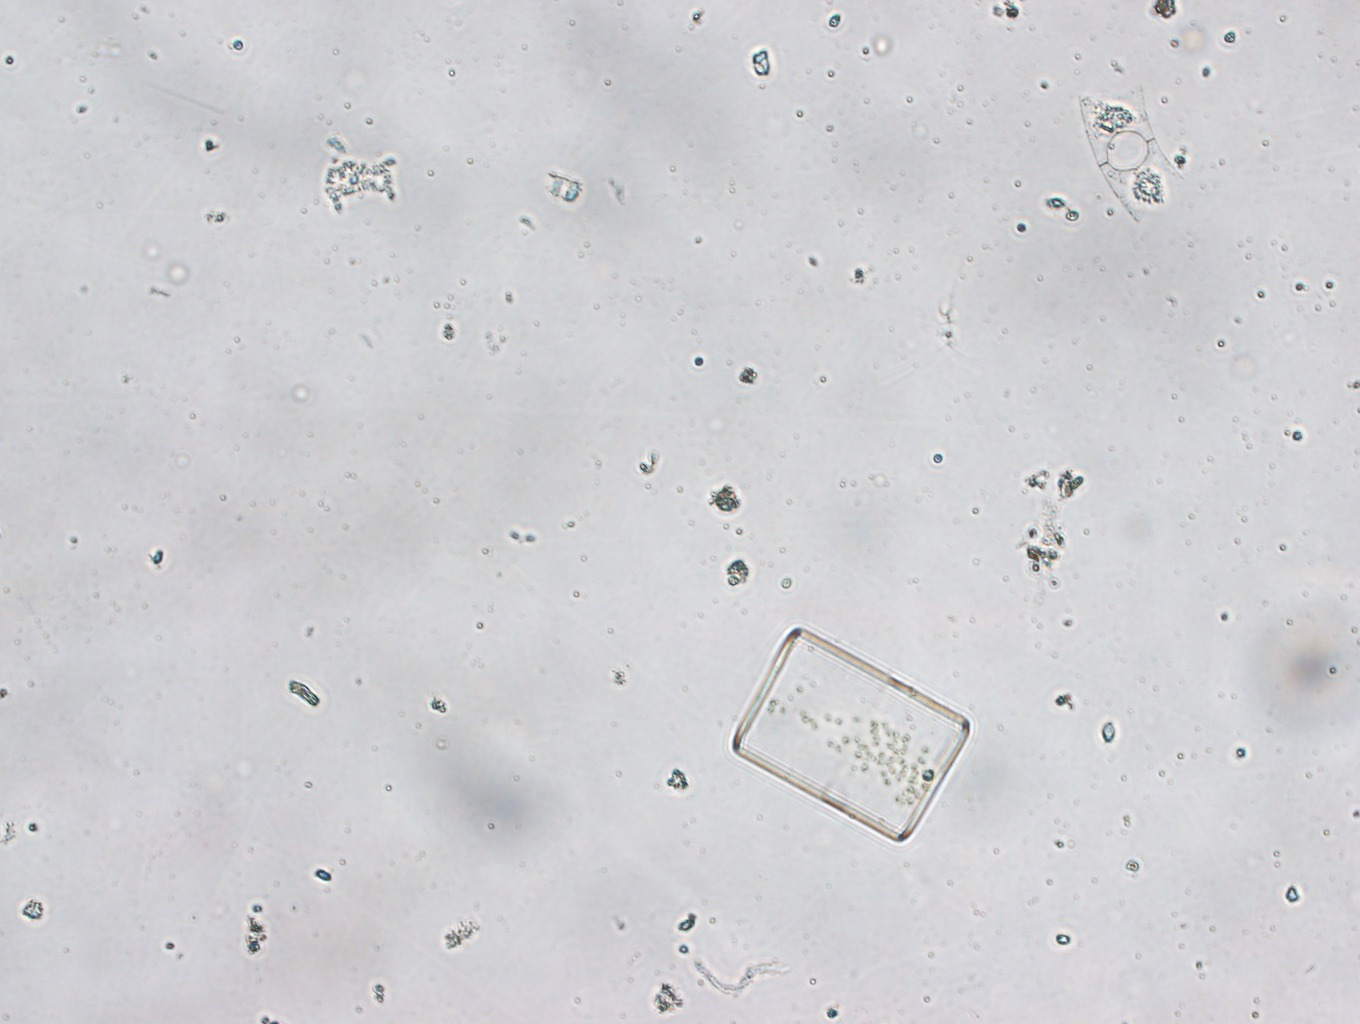guinardia flaccida: (728, 630, 976, 847)
